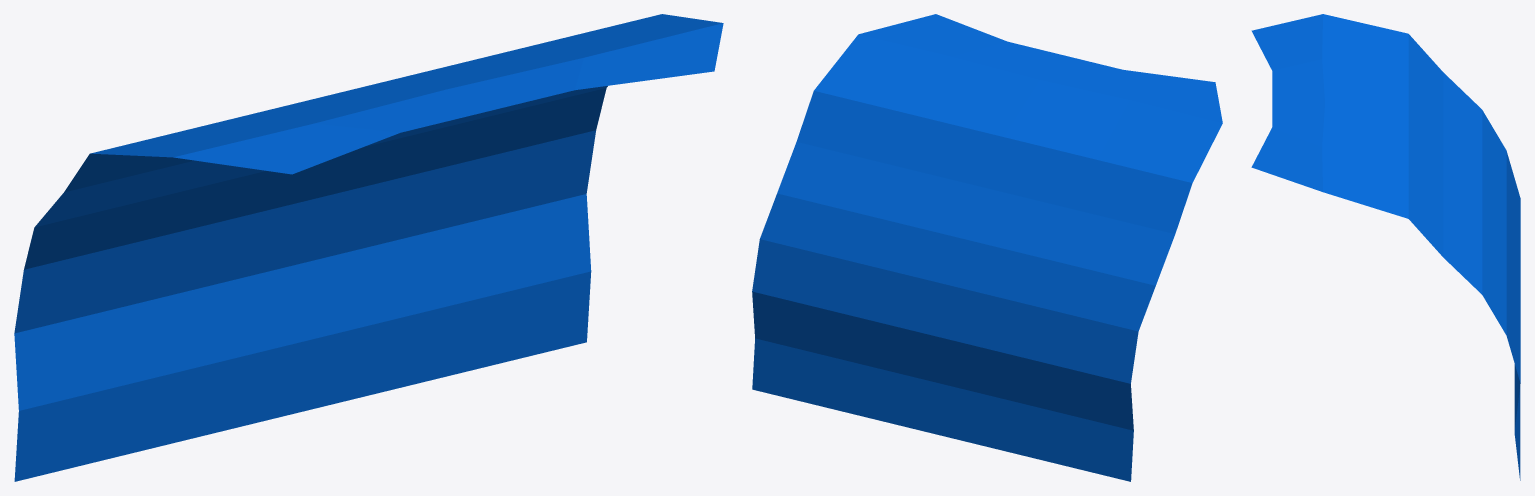
The model's file is cape.fbx.
3 views of the same model, side by side, from view 1: azimuth 30°, elevation 25°; view 2: azimuth 150°, elevation 25°; view 3: azimuth 270°, elevation 25° (orthographic). The views are drawn at different scales.
Visible parts, largest first — view 1: Plane.001; view 2: Plane.001; view 3: Plane.001.
Part boxes in pixels (box(x1,y1,x2,y2)): Plane.001: box(14, 14, 723, 481); Plane.001: box(752, 14, 1222, 481); Plane.001: box(1251, 14, 1520, 480).
Size of the model in its own units: 203 by 146 by 123.
